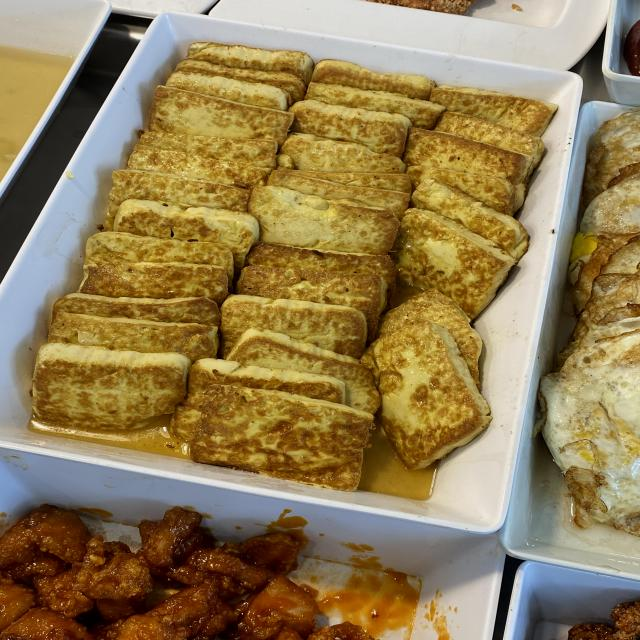Pan Fried Tofu: (167, 89, 474, 393)
